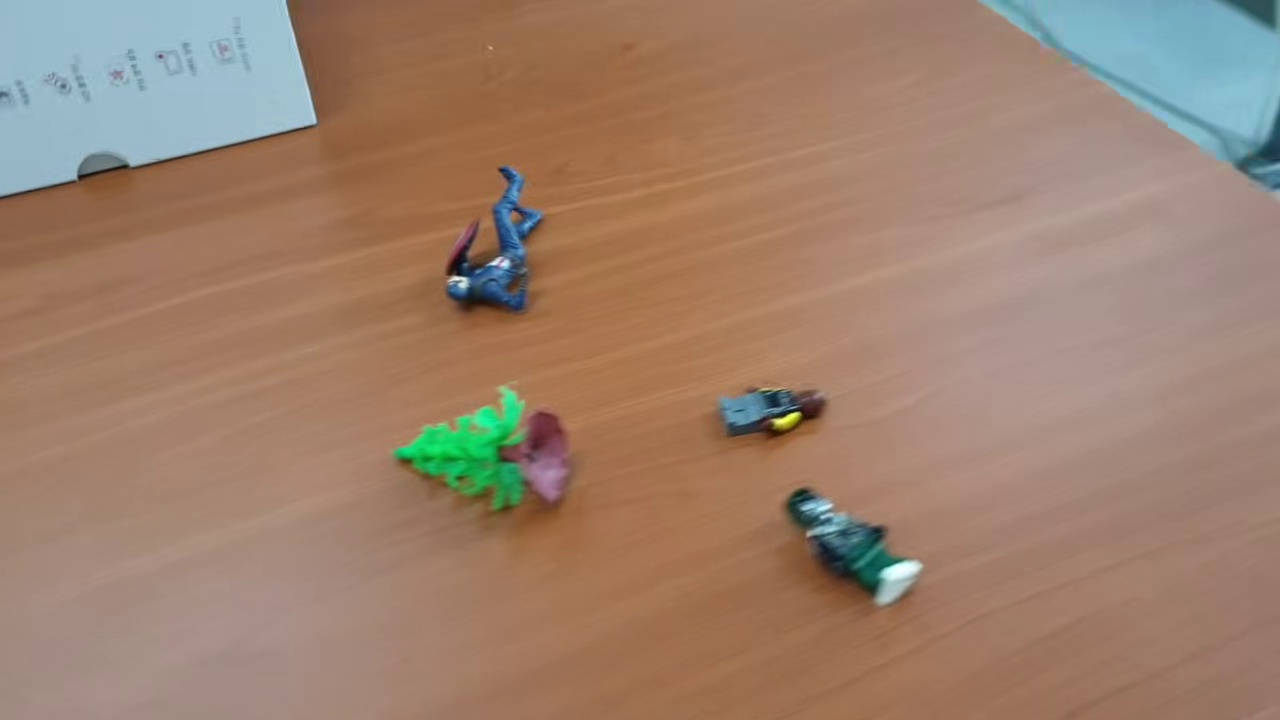people: (781, 486, 925, 612), (443, 167, 545, 315), (716, 382, 826, 439)
tree: (394, 380, 574, 512)
